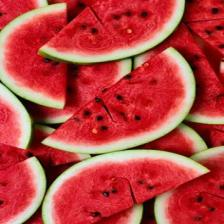red: (49, 53, 185, 144), (53, 157, 200, 224), (5, 10, 67, 102), (155, 148, 224, 224), (31, 63, 119, 116), (28, 125, 88, 167), (0, 161, 35, 224), (137, 128, 197, 157), (0, 0, 41, 29), (47, 0, 96, 22), (186, 121, 224, 148), (0, 101, 21, 147), (137, 40, 170, 69), (0, 144, 33, 170), (96, 206, 135, 224), (24, 206, 43, 224)
